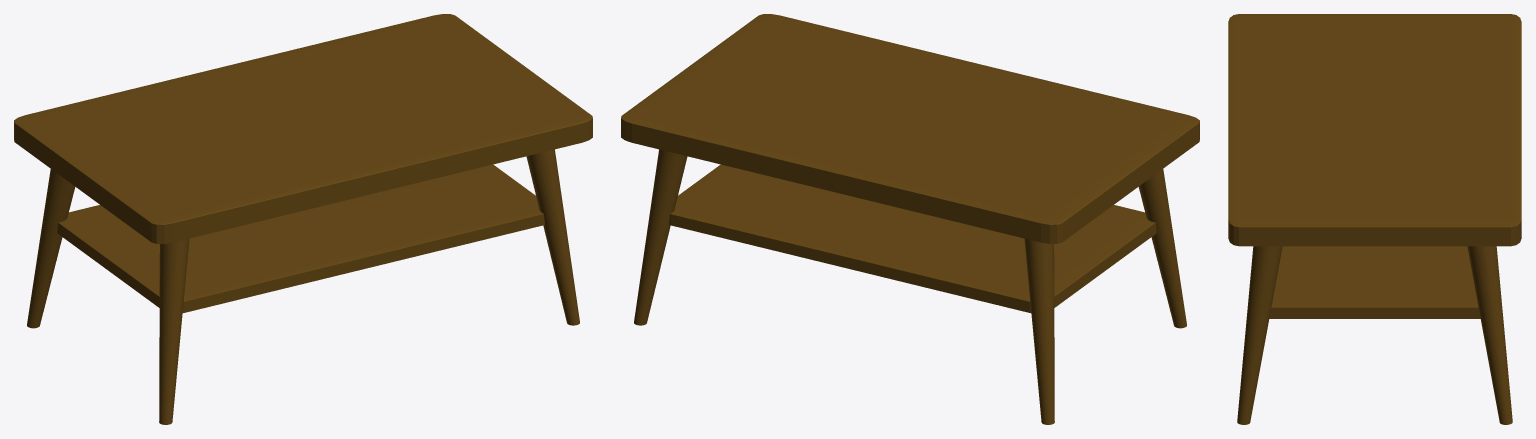
File: CoffeeTable_2.fbx
3 views of the same model, side by side, from view 1: azimuth 30°, elevation 25°; view 2: azimuth 150°, elevation 25°; view 3: azimuth 270°, elevation 25° (orthographic).
Parts seen in each view (by area): view 1: CoffeeTable2; view 2: CoffeeTable2; view 3: CoffeeTable2.
Boxes of the visible parts, x1=… form: CoffeeTable2: x1=14, y1=14, x2=592, y2=424; CoffeeTable2: x1=621, y1=14, x2=1199, y2=424; CoffeeTable2: x1=1228, y1=14, x2=1521, y2=424.
Size of the model in its own units: 344 by 153 by 200.
